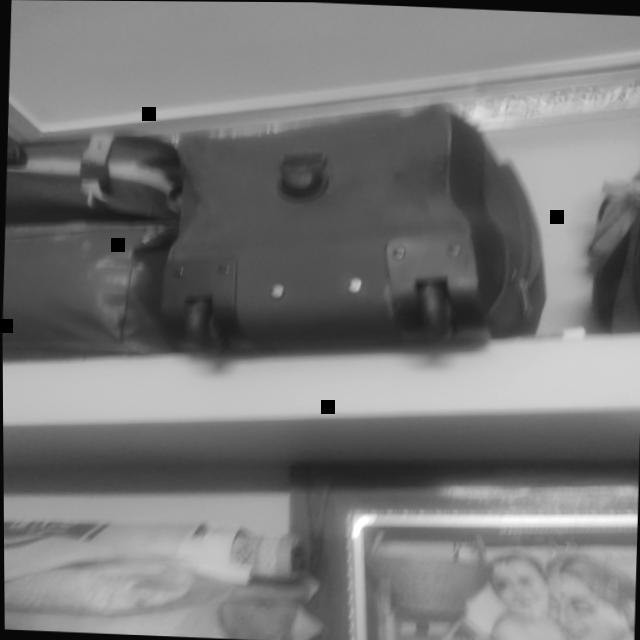luggage: (162, 88, 558, 371)
